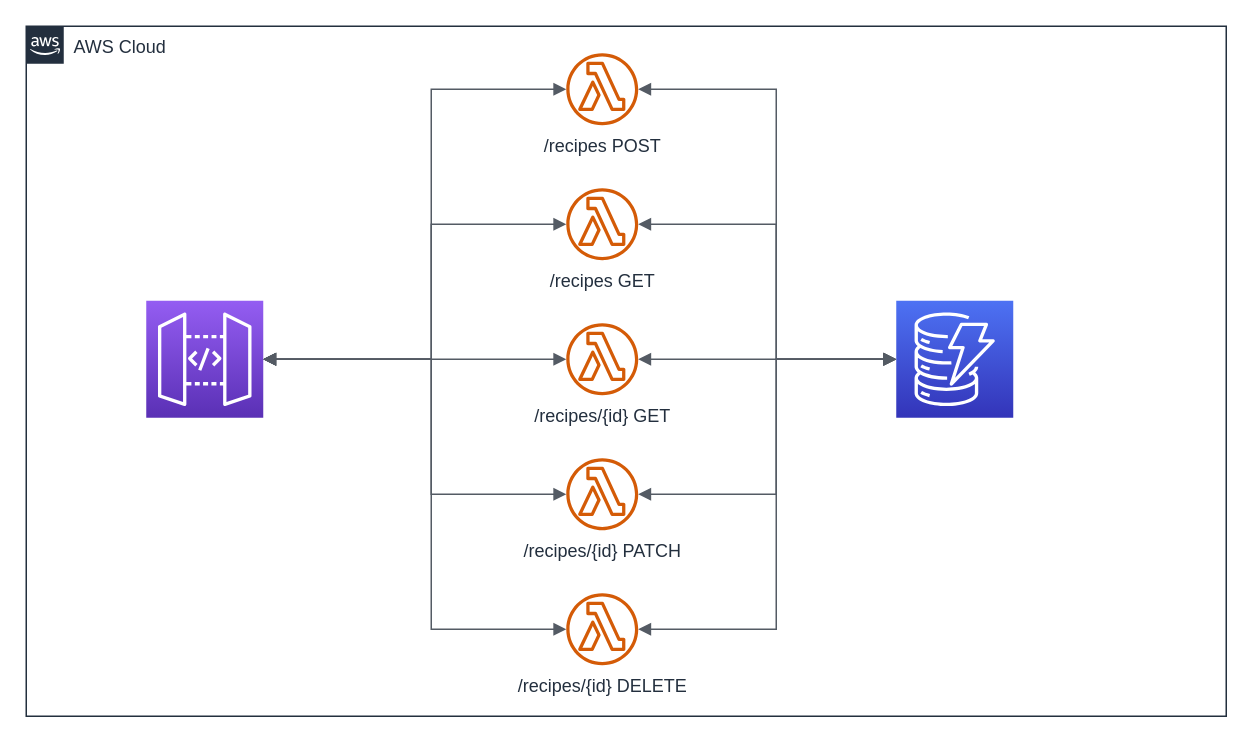
The diagram is 1253 pixels wide and 743 high, and some of its shapes have lost their labels. The centre of each missing label's shape, as x and y in pixels:
"API Gateway" goes at (x=204, y=358).
"DynamoDB Table" goes at (x=954, y=358).
